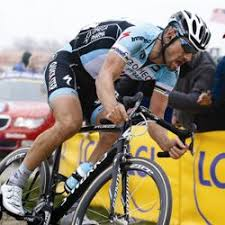helmet: (169, 8, 214, 51)
